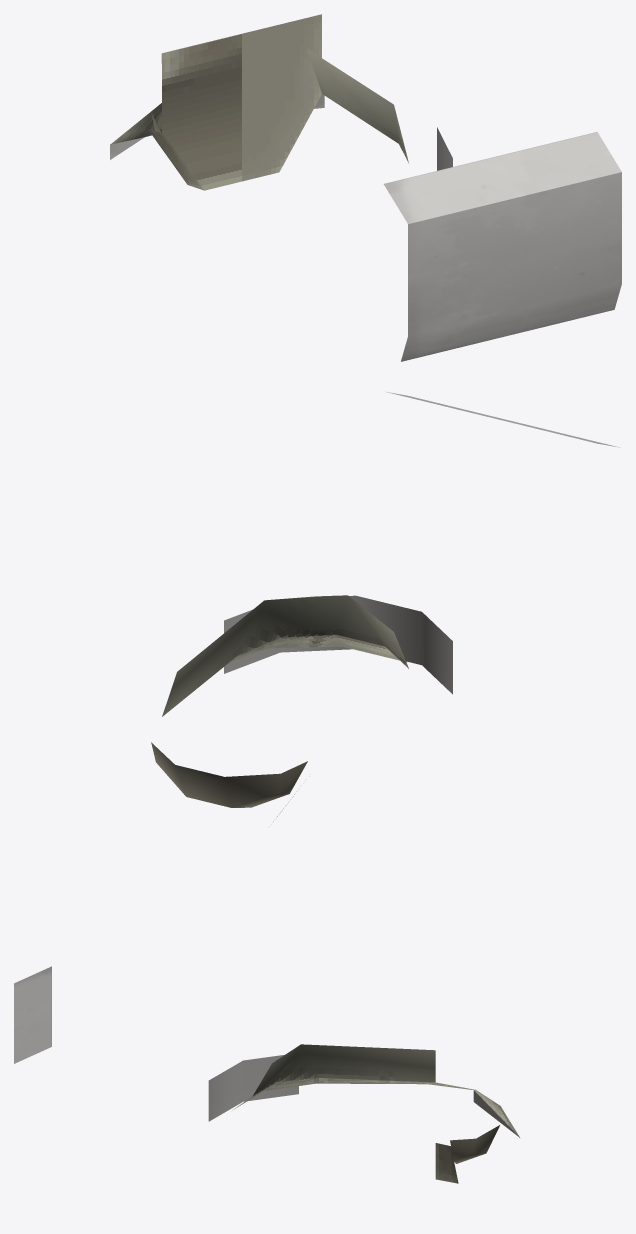
Rendered from brazier_x1.glb.
3 views of the same model, one above another, from view 1: azimuth 30°, elevation 25°; view 2: azimuth 150°, elevation 25°; view 3: azimuth 270°, elevation 25° (orthographic). The views are drawn at different scales.
Visible parts, largest first — view 1: wall.brazier_x1-MeshNodes["wall_arch_brazier_top"], wall.brazier_x1-MeshNodes["wall_arch_brazier_alcove"]; view 2: wall.brazier_x1-MeshNodes["wall_arch_brazier_alcove"], wall.brazier_x1-MeshNodes["wall_arch_brazier_top"]; view 3: wall.brazier_x1-MeshNodes["wall_arch_brazier_alcove"], wall.brazier_x1-MeshNodes["wall_arch_brazier_top"].
Part boxes in pixels (<box>): wall.brazier_x1-MeshNodes["wall_arch_brazier_top"]: <box>383,127,621,361</box>; wall.brazier_x1-MeshNodes["wall_arch_brazier_alcove"]: <box>110,14,408,190</box>; wall.brazier_x1-MeshNodes["wall_arch_brazier_alcove"]: <box>151,595,408,821</box>; wall.brazier_x1-MeshNodes["wall_arch_brazier_top"]: <box>224,391,619,694</box>; wall.brazier_x1-MeshNodes["wall_arch_brazier_alcove"]: <box>232,1044,519,1183</box>; wall.brazier_x1-MeshNodes["wall_arch_brazier_top"]: <box>14,966,298,1121</box>.
Size of the model in its own units: 1.62 by 1 by 3.2.
4 materials, 4 textured.
